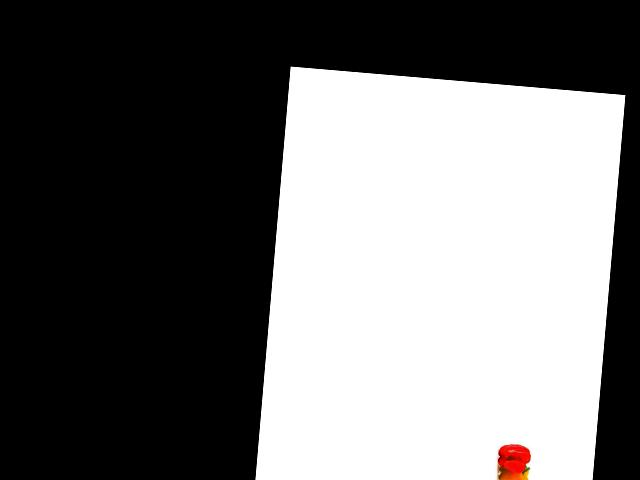bell_pepper: (495, 460, 529, 480)
